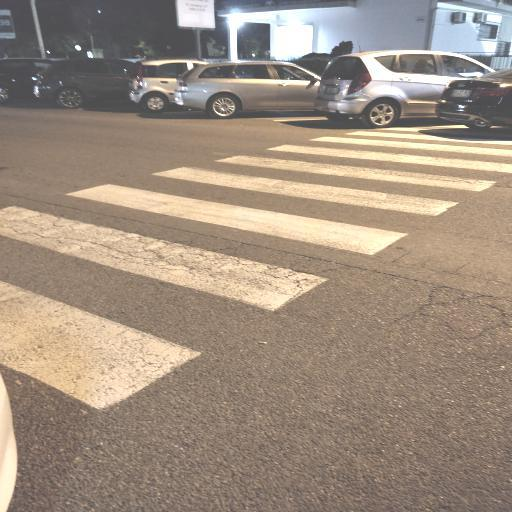crosswalk: (0, 178, 414, 321)
